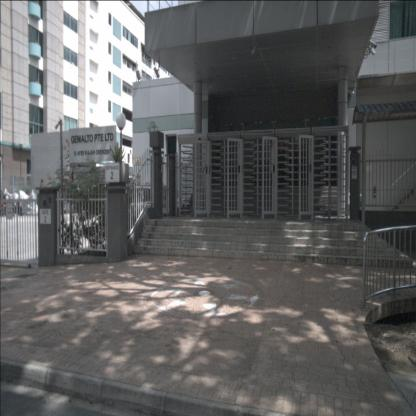vehicle-motorcycle: (18, 189, 38, 218), (0, 190, 17, 217)
